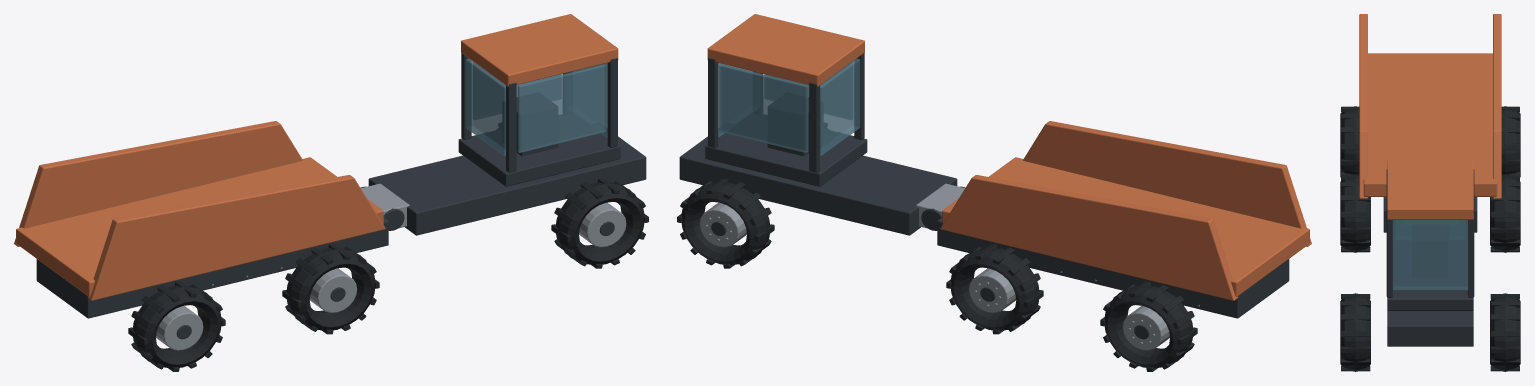
File: volvo-a40j-structural-study.glb
3 views of the same model, side by side, from view 1: azimuth 30°, elevation 25°; view 2: azimuth 150°, elevation 25°; view 3: azimuth 270°, elevation 25° (orthographic). The views are drawn at different scales.
Parts seen in each view (by area): view 1: Dump_Bed_Side_R, Dump_Bed_Side_L, Front_Chassis, Dump_Bed_Floor, Cab_Roof, Cab_R_Glass, Cab_Floor, Rear_Chassis, Middle_R_Tire, Rear_R_Tire, Front_R_Tire, Cab_Rear_Glass (+8 smaller); view 2: Dump_Bed_Side_L, Dump_Bed_Side_R, Front_Chassis, Dump_Bed_Floor, Cab_Roof, Cab_L_Glass, Cab_Floor, Rear_Chassis, Middle_L_Tire, Rear_L_Tire, Front_L_Tire, Cab_Rear_Glass (+8 smaller); view 3: Dump_Bed_Floor, Cab_Front_Glass, Cab_Roof, Cab_Floor, Front_Chassis, Operator_Seat, Dump_Bed_Side_L, Dump_Bed_Side_R, Front_L_Tire, Front_R_Tire, Middle_L_Tire, Middle_R_Tire (+21 smaller).
Part boxes in pixels (<box>): Dump_Bed_Side_R: <box>87,175,385,300</box>; Dump_Bed_Side_L: <box>14,121,302,246</box>; Front_Chassis: <box>368,132,646,235</box>; Dump_Bed_Floor: <box>16,157,383,296</box>; Cab_Roof: <box>461,14,618,86</box>; Cab_R_Glass: <box>517,64,606,152</box>; Cab_Floor: <box>458,114,620,186</box>; Rear_Chassis: <box>36,217,388,318</box>; Middle_R_Tire: <box>286,248,375,330</box>; Rear_R_Tire: <box>132,285,221,368</box>; Front_R_Tire: <box>555,182,644,265</box>; Cab_Rear_Glass: <box>465,58,505,155</box>; Dump_Bed_Side_L: <box>940,175,1238,300</box>; Dump_Bed_Side_R: <box>1023,121,1311,246</box>; Front_Chassis: <box>679,132,957,235</box>; Dump_Bed_Floor: <box>942,157,1309,296</box>; Cab_Roof: <box>707,14,864,86</box>; Cab_L_Glass: <box>719,64,808,152</box>; Cab_Floor: <box>705,114,867,186</box>; Rear_Chassis: <box>937,217,1289,318</box>; Middle_L_Tire: <box>950,248,1039,330</box>; Rear_L_Tire: <box>1104,285,1193,368</box>; Front_L_Tire: <box>681,182,770,265</box>; Cab_Rear_Glass: <box>820,58,860,155</box>; Dump_Bed_Floor: <box>1363,53,1497,196</box>; Cab_Front_Glass: <box>1392,220,1468,290</box>; Cab_Roof: <box>1387,160,1473,219</box>; Cab_Floor: <box>1387,249,1473,310</box>; Front_Chassis: <box>1387,225,1473,346</box>; Operator_Seat: <box>1413,225,1447,276</box>; Dump_Bed_Side_L: <box>1493,14,1501,198</box>; Dump_Bed_Side_R: <box>1359,14,1367,198</box>; Front_L_Tire: <box>1490,293,1520,371</box>; Front_R_Tire: <box>1340,293,1370,371</box>; Middle_L_Tire: <box>1490,174,1520,252</box>; Middle_R_Tire: <box>1340,174,1370,252</box>.
Bounding box in the file's own units: 11.26 × 3.63 × 3.4.
